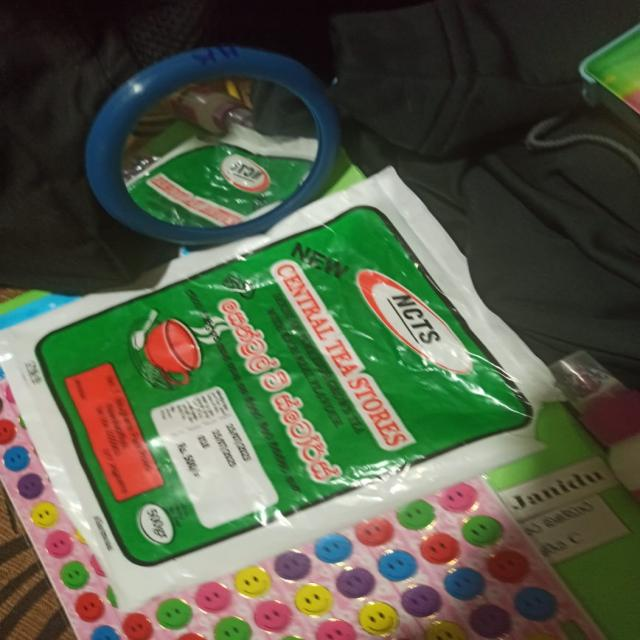Central Tea: (0, 221, 576, 548)
